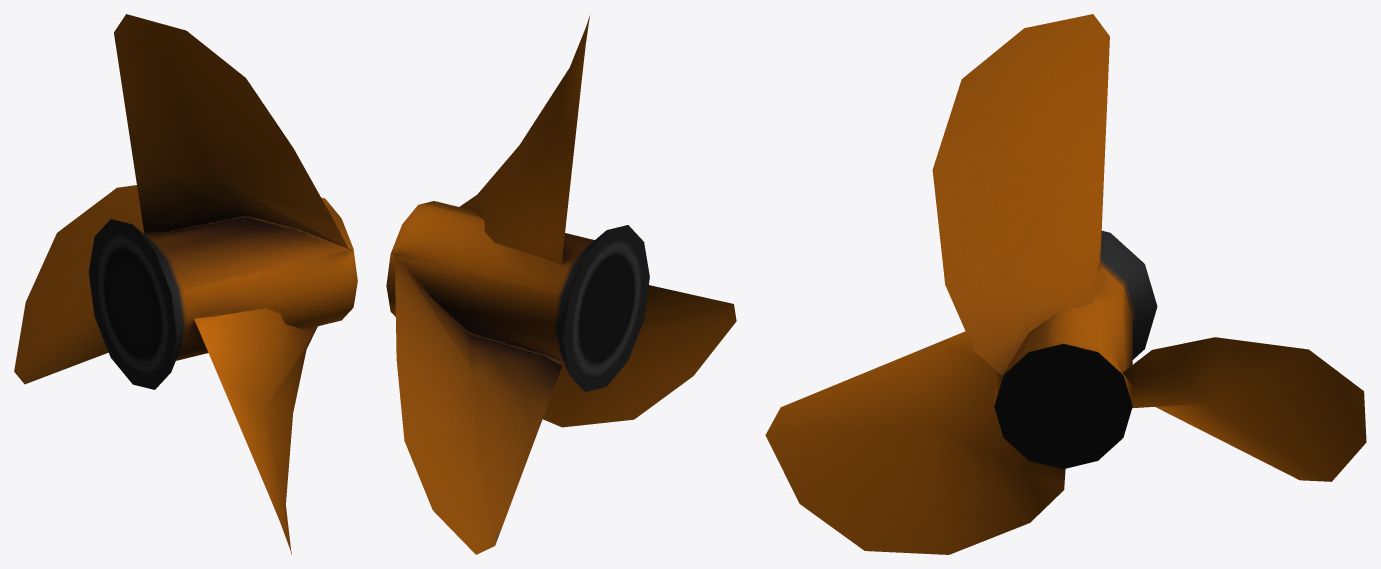
File: propeller.dae
3 renders of one model, left to right at view 1: azimuth 30°, elevation 25°; view 2: azimuth 150°, elevation 25°; view 3: azimuth 270°, elevation 25°, orthographic. The views are drawn at different scales.
Visible parts, largest first — view 1: Prop_Left; view 2: Prop_Left; view 3: Prop_Left.
Part boxes in pixels (<box>): Prop_Left: <box>14,14,357,554</box>; Prop_Left: <box>386,15,736,554</box>; Prop_Left: <box>765,14,1366,554</box>.
Size of the model in its own units: 0.1666 by 0.4234 by 0.3941.
Materials: 1 (1 with a texture image).
